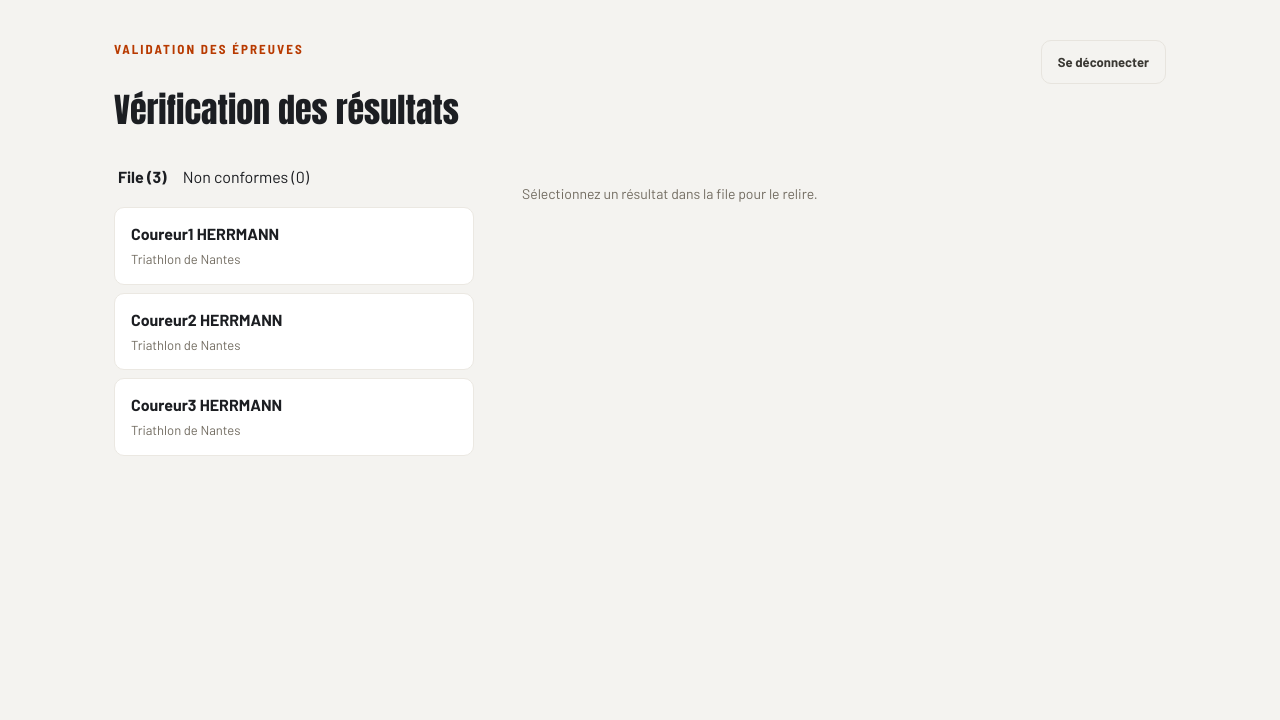
Scenario: BenevolesPage › enchaîne sur l'entrée suivante après une validation
Check: the text "Coureur2 HERRMANN" is shown, box top-left (131, 308), bottom-right (282, 332)
Click the button "Coureur2 HERRMANN Triathlon de Nantes". click: click(164, 319)
box: top-left (114, 292), bottom-right (474, 370)
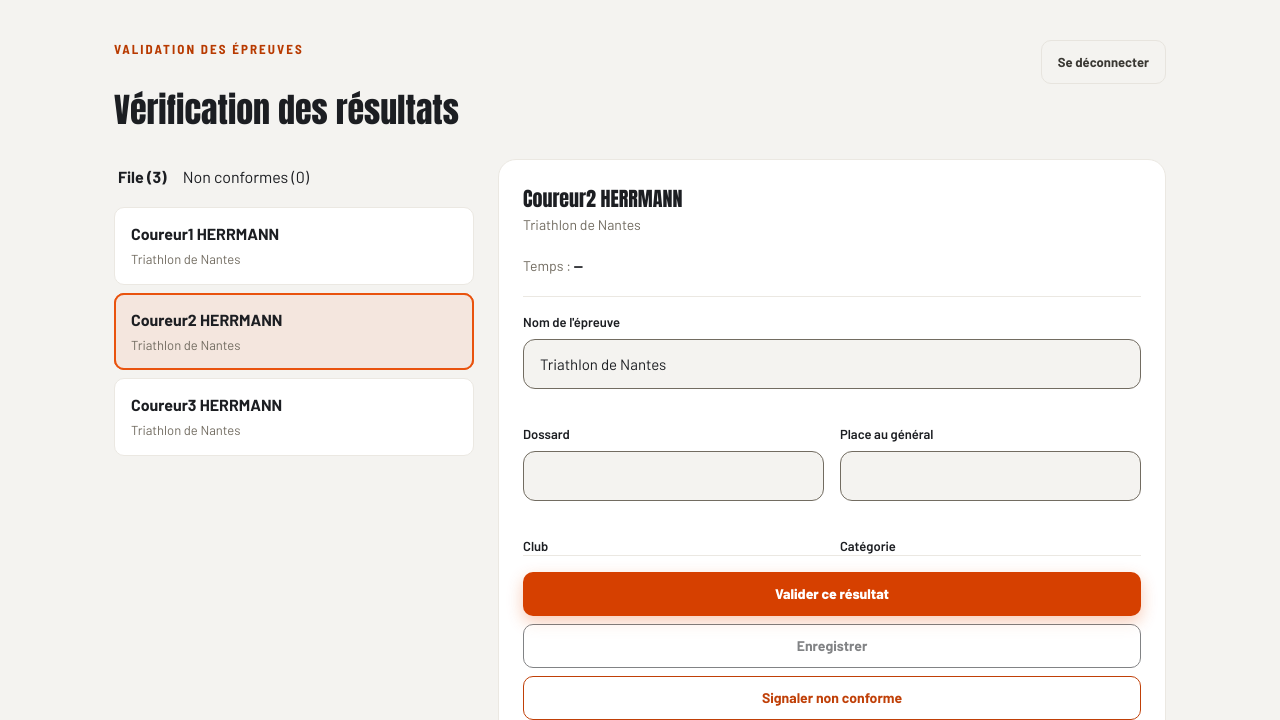
Click the button "Valider ce résultat". click: click(832, 594)
box: top-left (523, 572), bottom-right (1141, 616)
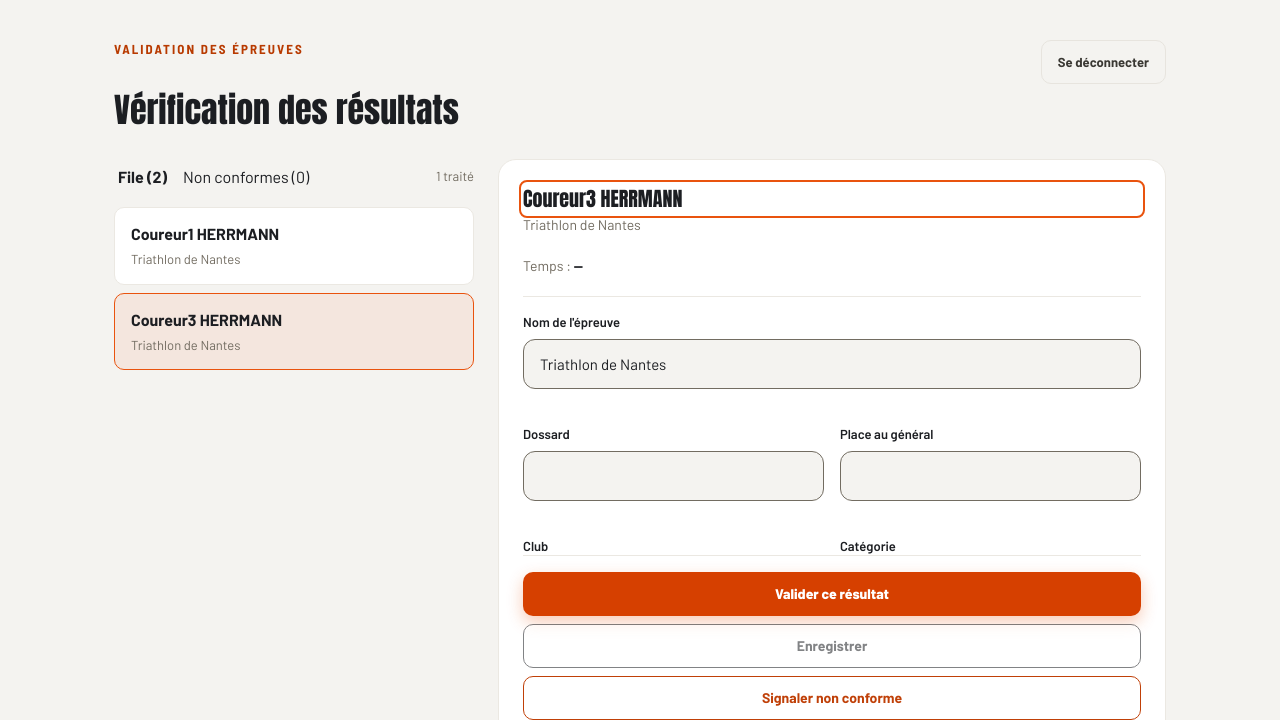
Check: the text "Sélectionnez un résultat" is not shown
Check: the heading "Coureur3 HERRMANN" is shown, box top-left (523, 183), bottom-right (682, 214)
